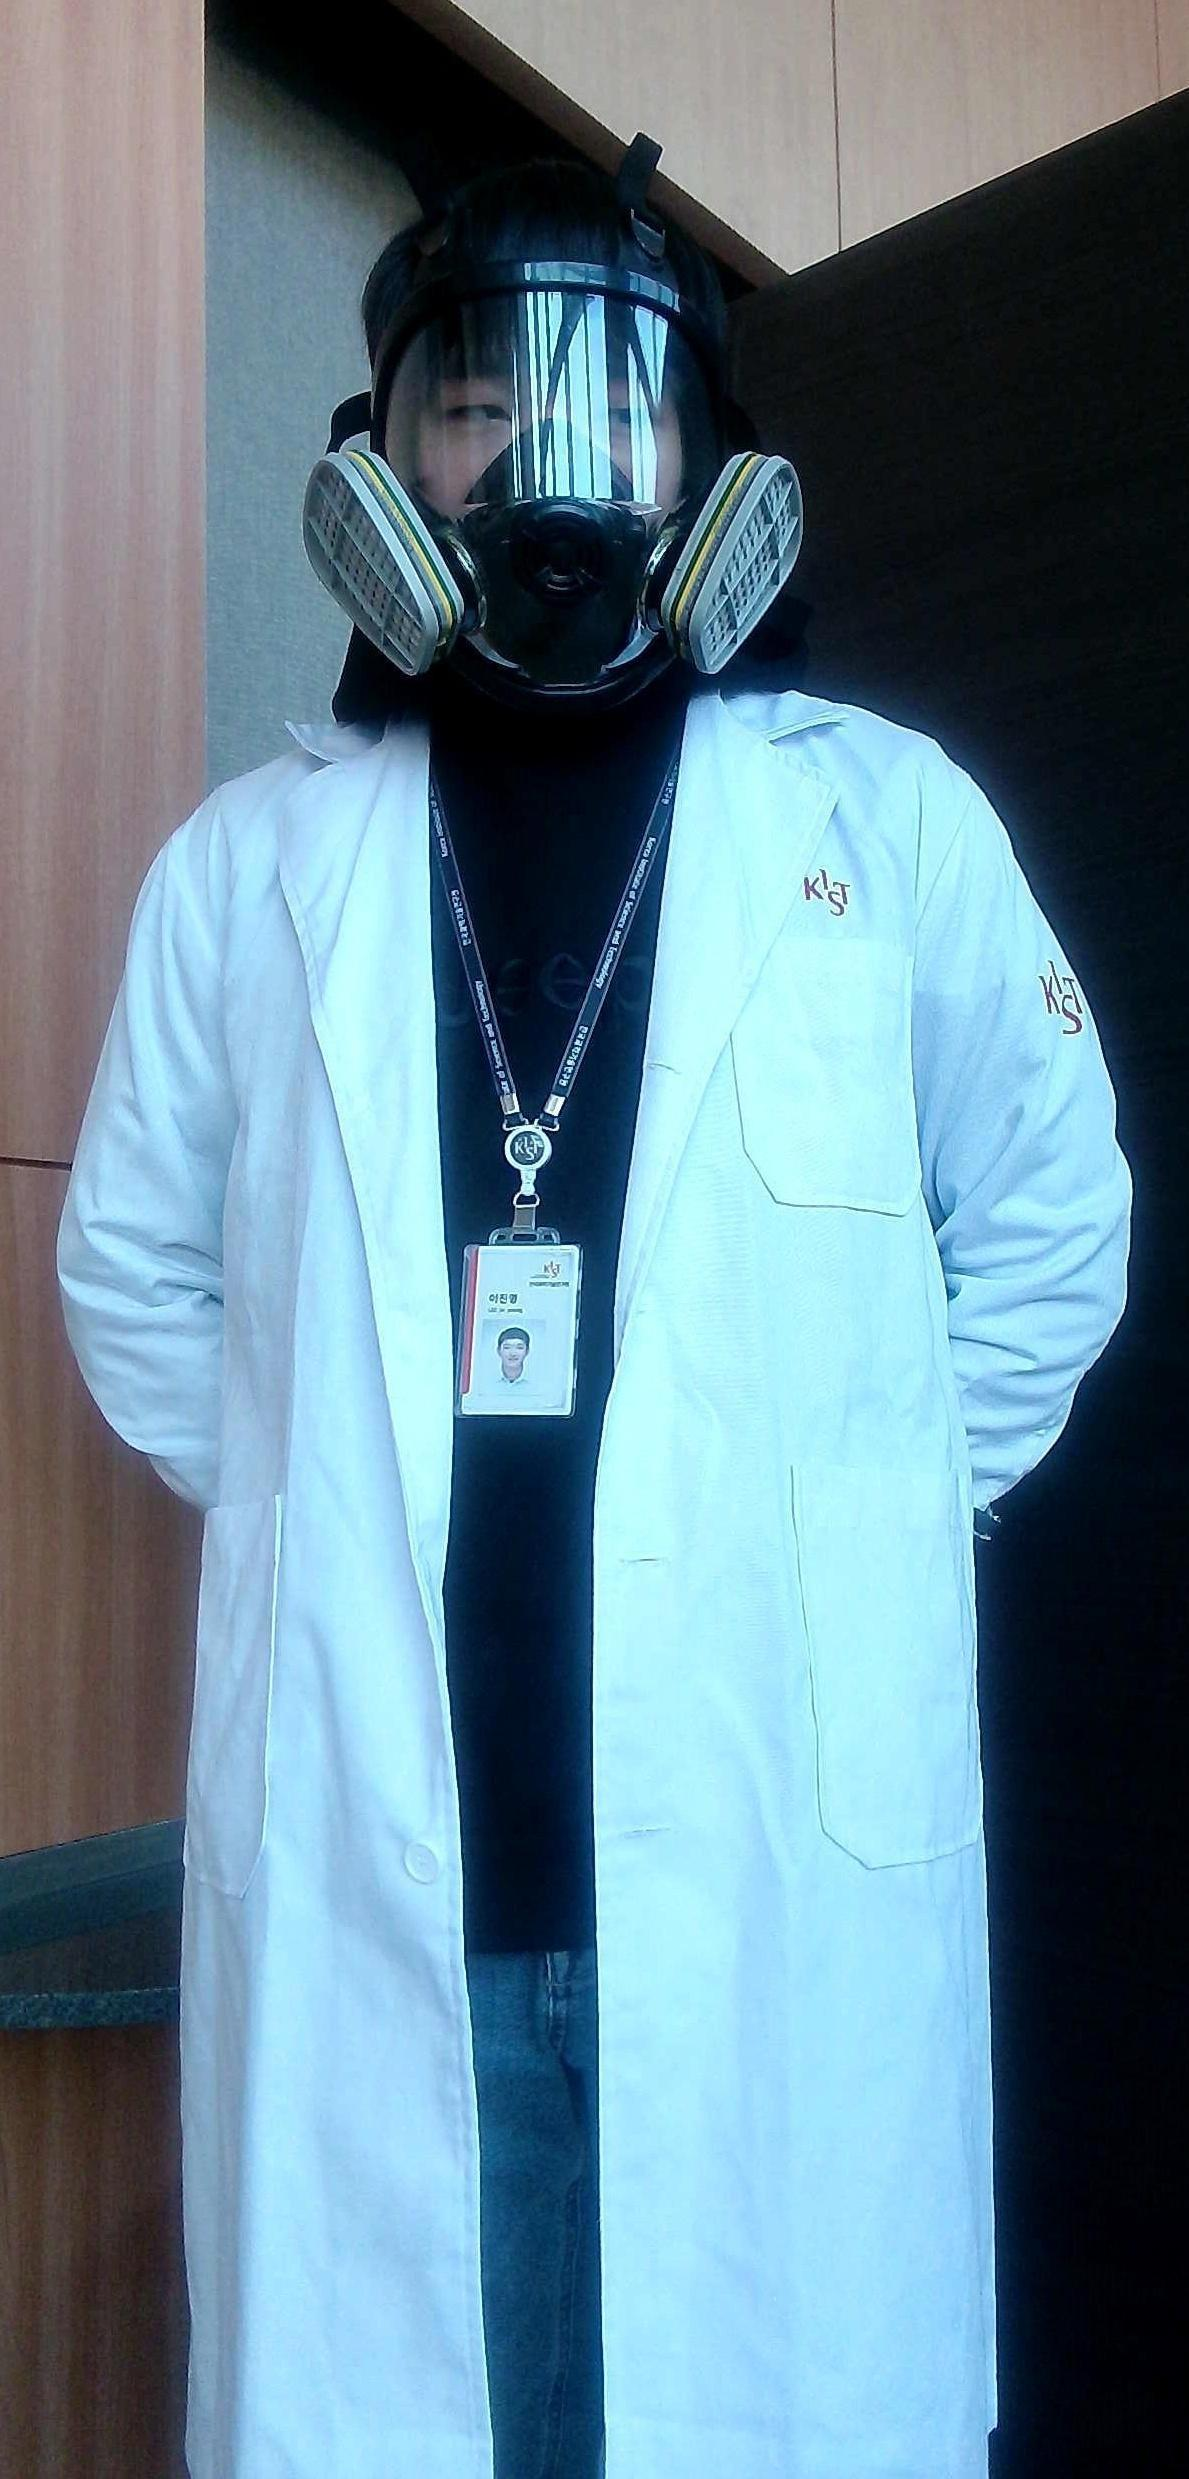lab_coat: (71, 786, 1048, 2473)
